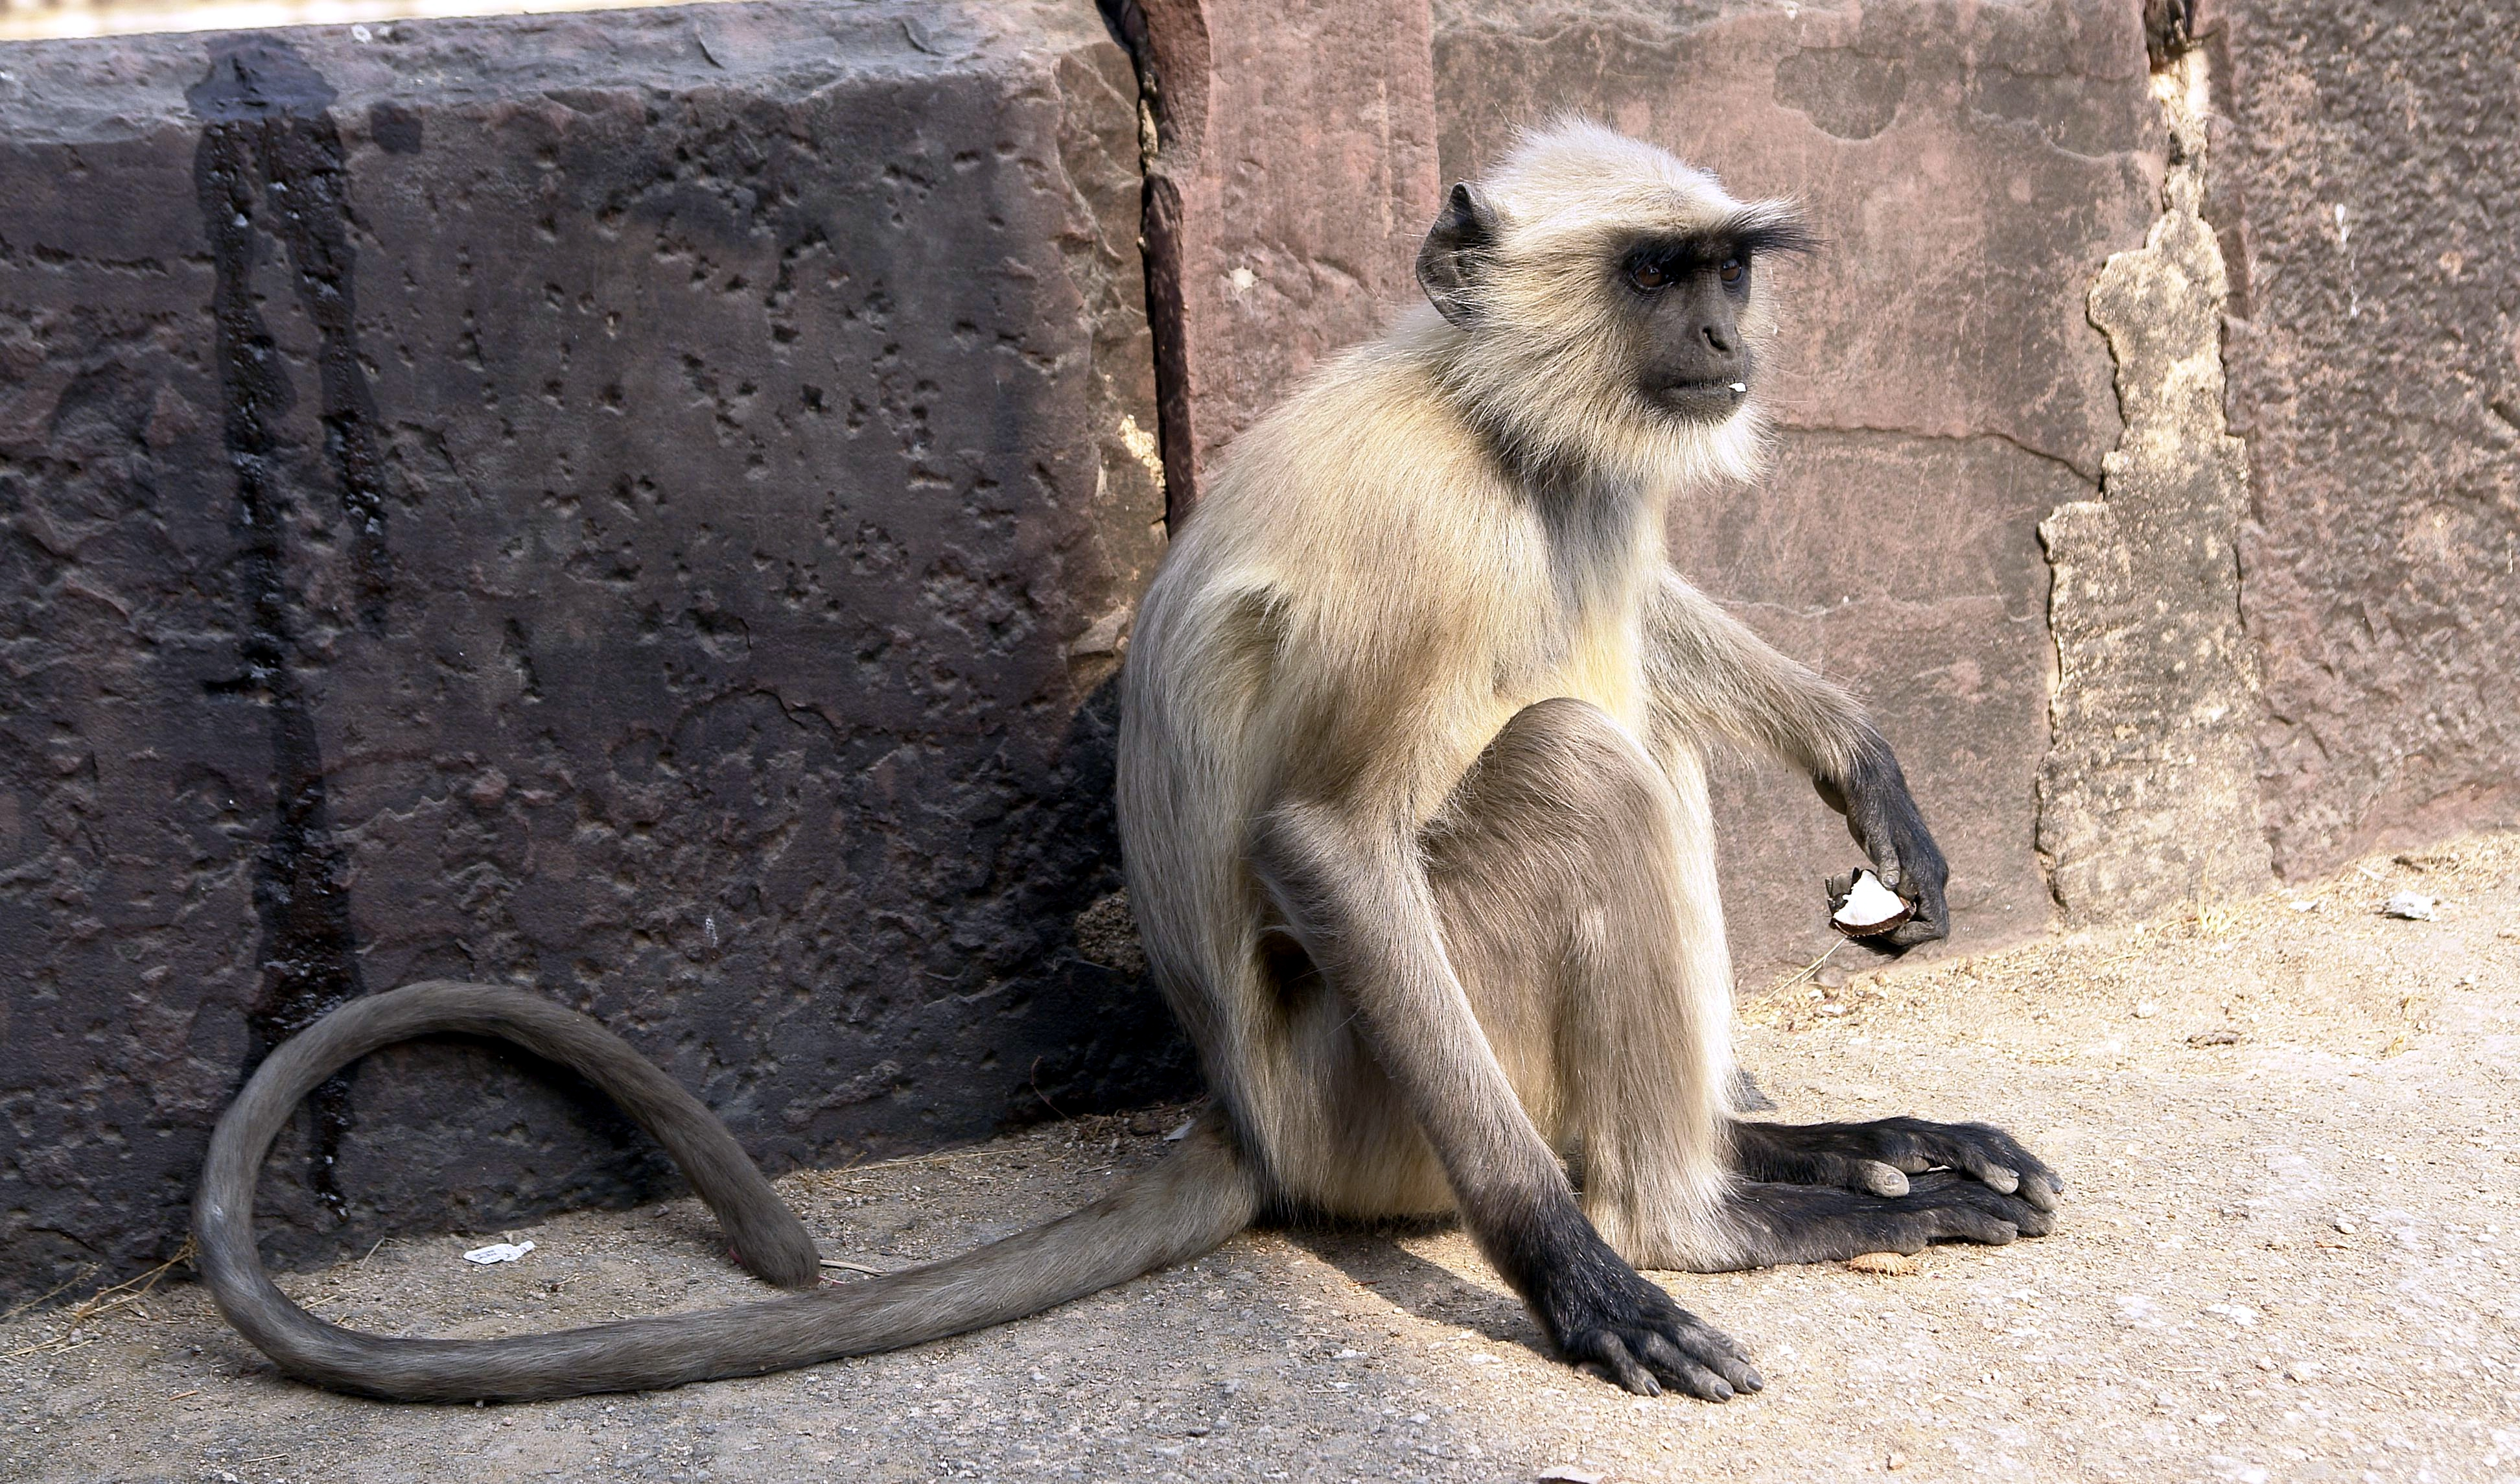langur: (207, 97, 2052, 1380)
